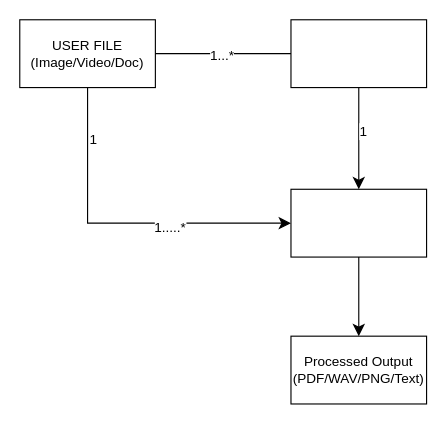
The diagram is 446 pixels wide and 424 high, and some of its shapes have lost their labels. The shapes that lost their labels are listed below. From the top down, each one's centre as x and y in pixels, then its label:
At point 358,53: "CANVAS BUFFER (ImageData Array)".
At point 358,222: "Processing Engine (jsPDF/jsQR/Audio)".
